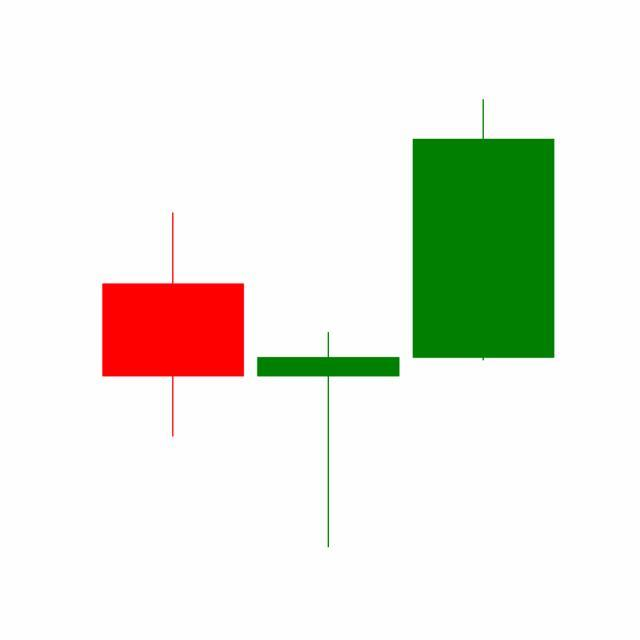Spinning Top: (250, 331, 407, 551)
